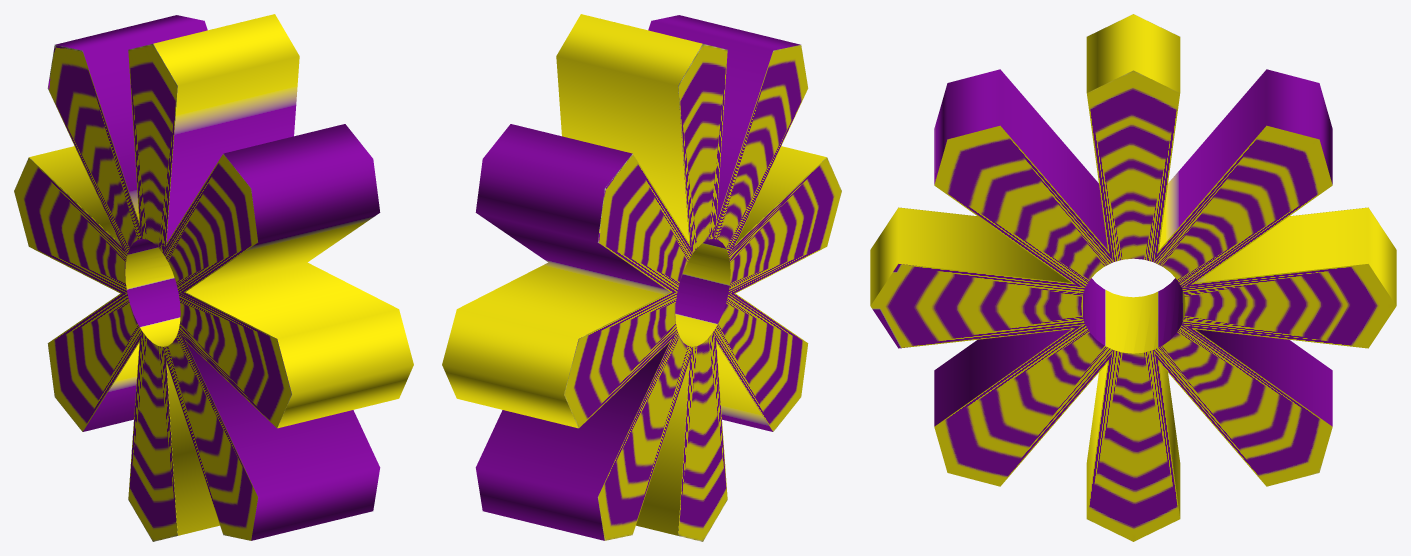
The model's file is UV_gear3.fbx.
3 renders of one model, left to right at view 1: azimuth 30°, elevation 25°; view 2: azimuth 150°, elevation 25°; view 3: azimuth 270°, elevation 25°, orthographic. The views are drawn at different scales.
Visible parts, largest first — view 1: gear3; view 2: gear3; view 3: gear3.
Boxes of the visible parts, x1,y1,x2,y2 form: gear3: (14, 14, 413, 541); gear3: (442, 14, 841, 541); gear3: (870, 14, 1396, 541).
Size of the model in its own units: 2 by 7.8 by 7.89.
1 material, 1 textured.
